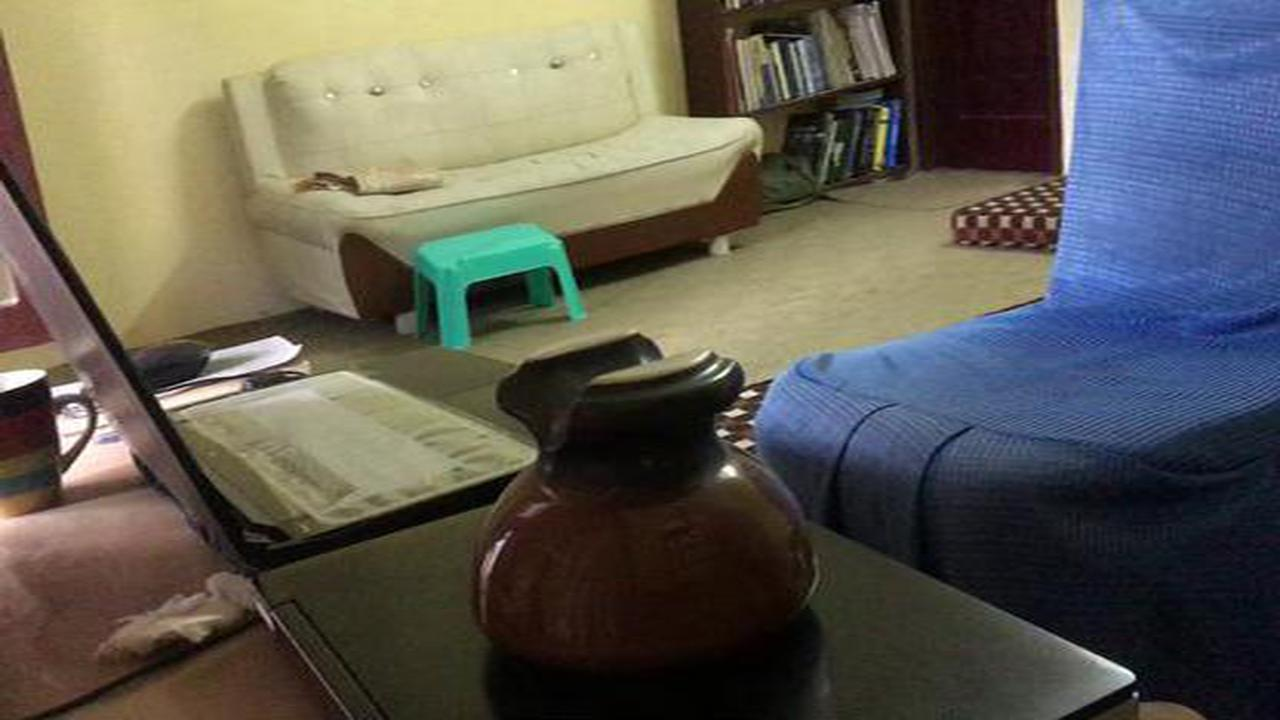insulator_pin: (428, 319, 853, 679)
